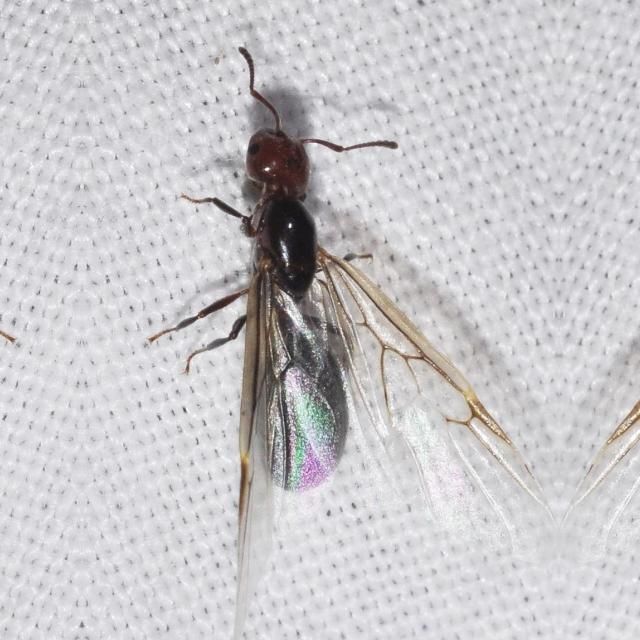Crematogaster: (208, 88, 410, 510)
